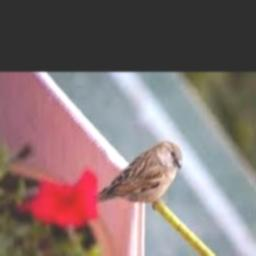Sparrow: (96, 140, 183, 210)
